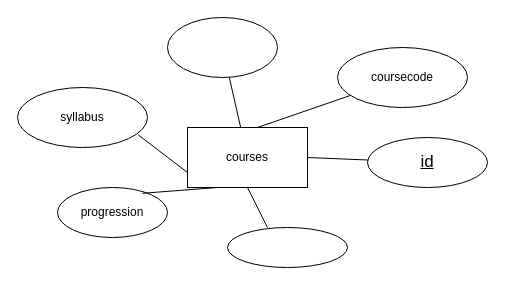
This 505x285 diagram has some shape labels left out. Here are the shapes that lost their labels. From the top down, the centre of each, then its label:
the point at 222,47: coursesename
the point at 287,247: created_at
